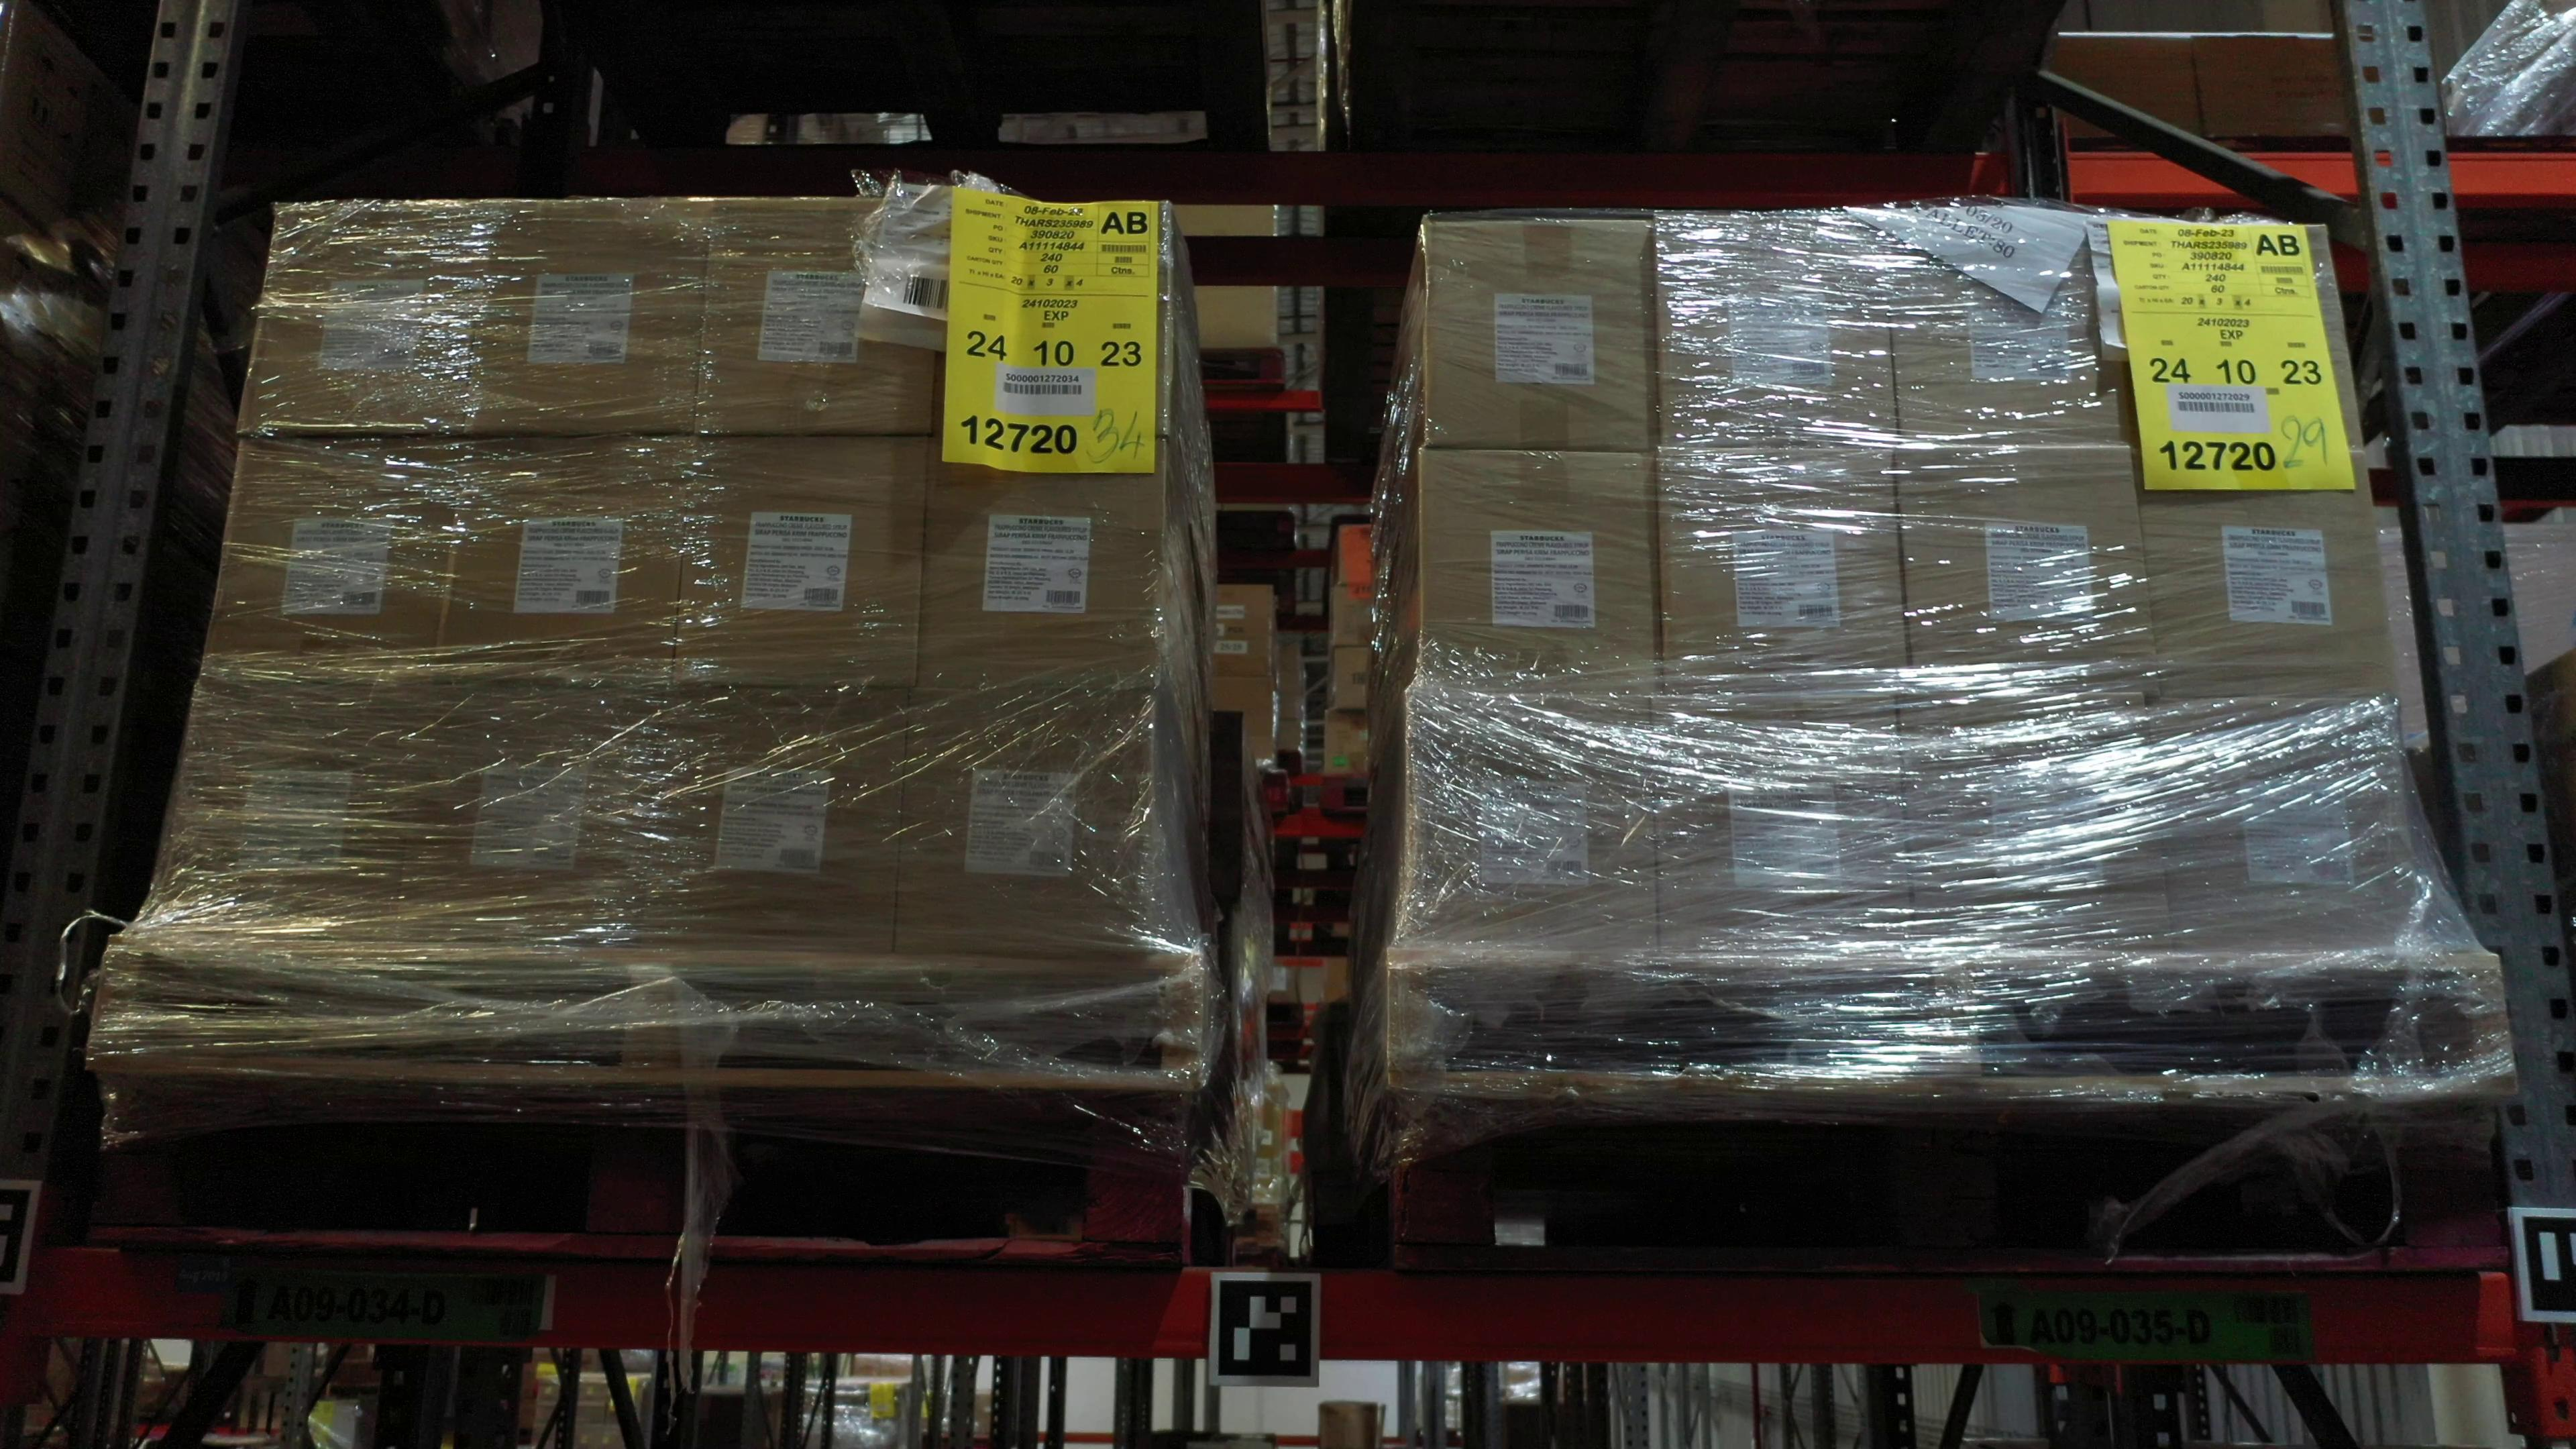-: (1898, 694, 2178, 959), (2144, 697, 2429, 957), (147, 688, 430, 947), (644, 688, 909, 959), (1651, 695, 1916, 959), (663, 432, 929, 694), (202, 433, 469, 692), (892, 692, 1155, 952), (396, 694, 663, 948), (2128, 449, 2399, 701), (430, 439, 694, 694), (1897, 449, 2160, 701), (1408, 695, 1661, 955), (913, 439, 1164, 694), (1658, 449, 1916, 697), (232, 202, 497, 441), (1417, 446, 1660, 702), (1884, 211, 2134, 449), (469, 198, 711, 441), (2109, 219, 2364, 449), (697, 196, 939, 435), (1652, 218, 1898, 451), (1421, 218, 1658, 455), (938, 202, 1169, 439)
